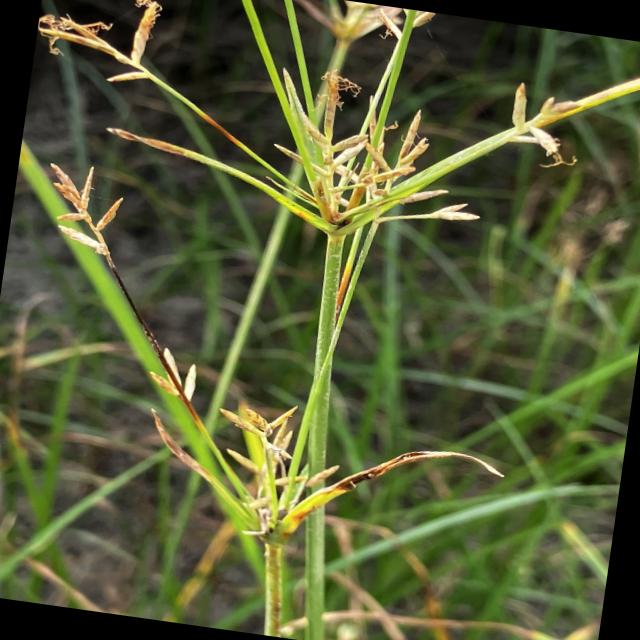cyperus: (0, 0, 581, 574), (17, 0, 597, 262), (120, 335, 518, 566), (22, 146, 152, 272)
